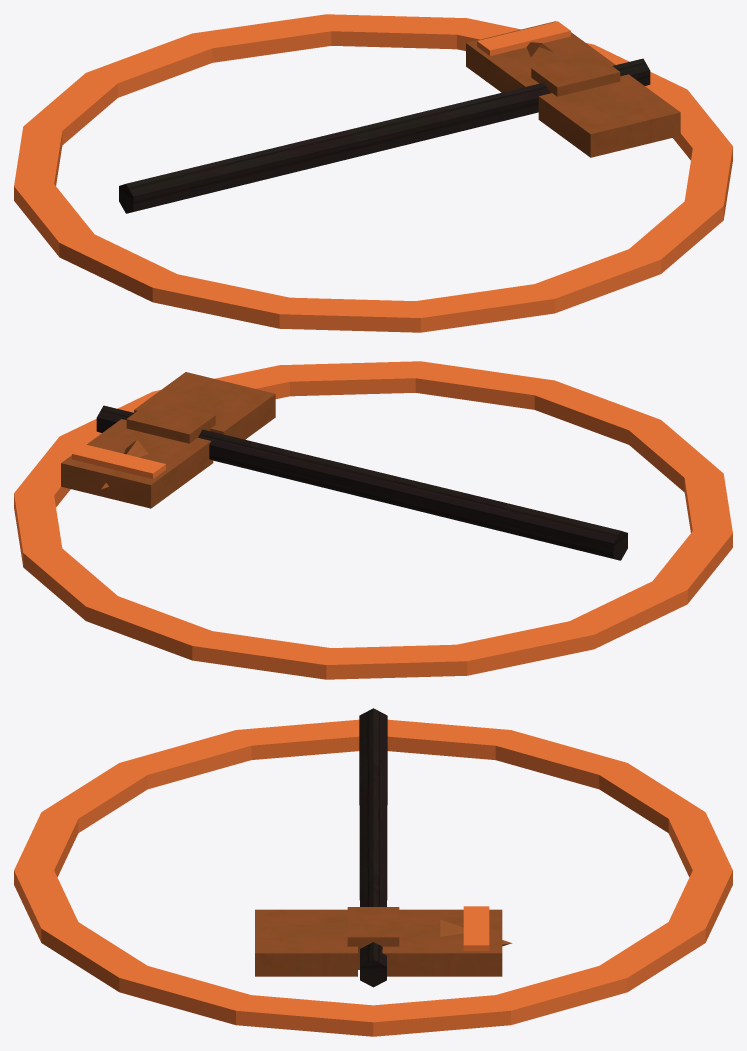
The model's file is loot_axe_g4.glb.
3 views of the same model, one above another, from view 1: azimuth 30°, elevation 25°; view 2: azimuth 150°, elevation 25°; view 3: azimuth 270°, elevation 25° (orthographic).
Visible parts, largest first — view 1: loot_axe_g4; view 2: loot_axe_g4; view 3: loot_axe_g4.
Part boxes in pixels (x1,y1,x2,y2): loot_axe_g4: [14, 14, 732, 332]; loot_axe_g4: [14, 361, 732, 679]; loot_axe_g4: [14, 708, 732, 1036].
Bounding box in the file's own units: 1.4 × 0.135 × 1.4.
Materials: 3 (2 with a texture image).
